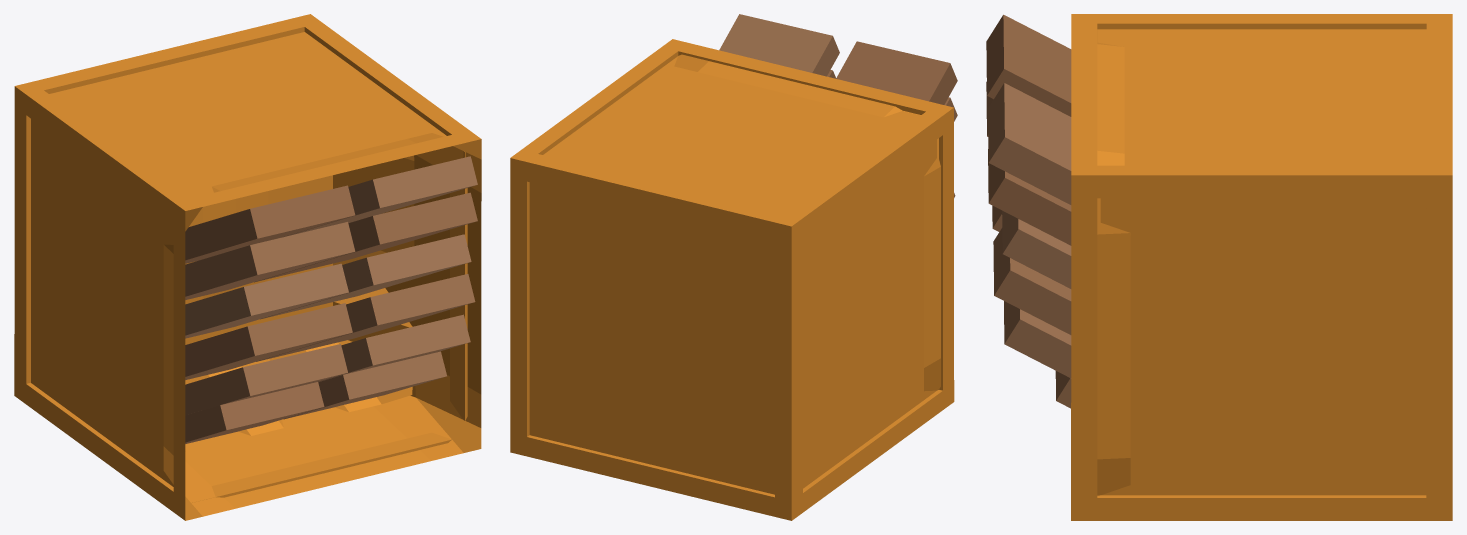
File: holzplanke_planiert.gltf
3 views of the same model, side by side, from view 1: azimuth 30°, elevation 25°; view 2: azimuth 150°, elevation 25°; view 3: azimuth 270°, elevation 25° (orthographic). The views are drawn at different scales.
Visible parts, largest first — view 1: Crate, Cube.002, Cube.001, Cube.006, Cube.005, Cube.011, Cube.003, Cube.007, Cube, Cube.004, Cube.009, Cube.010 (+1 smaller); view 2: Crate, Cube.001, Cube; view 3: Crate, Cube, Cube.001, Cube.007, Cube.003, Cube.004, Cube.010.
Part boxes in pixels (box(x1,y1,x2,y2)): Crate: box(14, 14, 481, 520); Cube.002: box(185, 222, 355, 299); Cube.001: box(185, 185, 355, 263); Cube.006: box(185, 303, 352, 379); Cube.005: box(185, 263, 348, 338); Cube.011: box(185, 344, 347, 415); Cube.003: box(254, 192, 477, 282); Cube.007: box(256, 274, 475, 361); Cube: box(283, 156, 477, 237); Cube.004: box(260, 234, 471, 319); Cube.009: box(185, 382, 324, 443); Cube.010: box(318, 314, 470, 381); Crate: box(510, 39, 954, 520); Cube.001: box(836, 41, 957, 104); Cube: box(719, 14, 839, 76); Crate: box(1071, 14, 1452, 520); Cube: box(988, 83, 1071, 204); Cube.001: box(986, 14, 1071, 116); Cube.007: box(993, 228, 1071, 334); Cube.003: box(988, 149, 1071, 245); Cube.004: box(1002, 210, 1071, 288); Cube.010: box(1004, 301, 1071, 378).
Bounding box in the file's own units: 0.3001 × 0.3159 × 0.3667.
